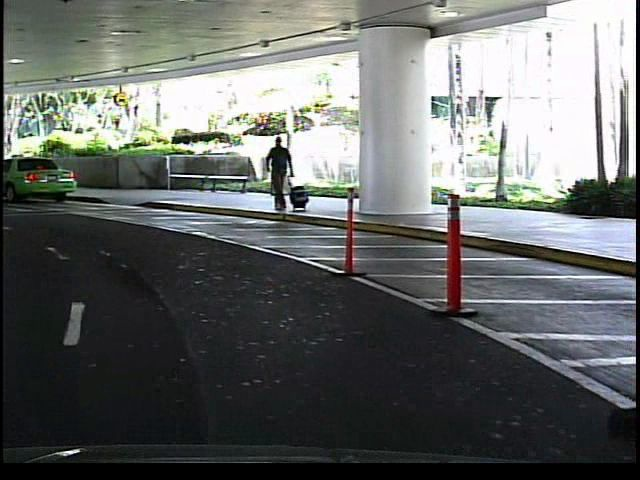person: (265, 129, 301, 217)
